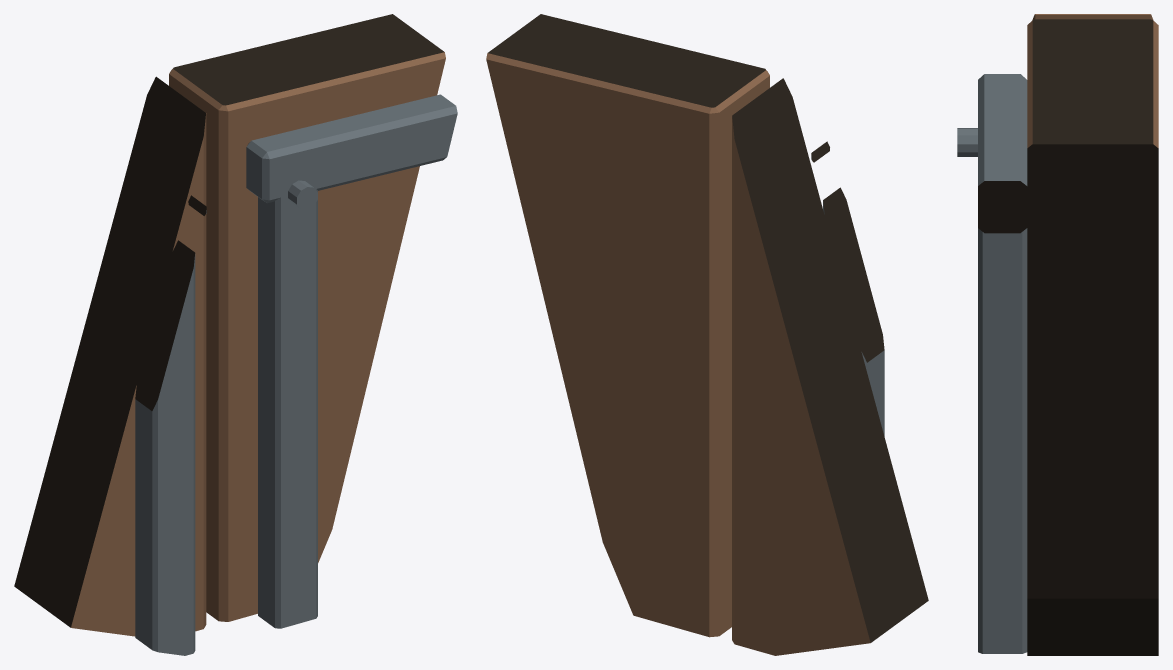
The model's file is SM_DoorShard_02_16.fbx.
3 views of the same model, side by side, from view 1: azimuth 30°, elevation 25°; view 2: azimuth 150°, elevation 25°; view 3: azimuth 270°, elevation 25° (orthographic). The views are drawn at different scales.
Visible parts, largest first — view 1: SM_DoorShard_02_16; view 2: SM_DoorShard_02_16; view 3: SM_DoorShard_02_16.
Part boxes in pixels (x1,y1,x2,y2): SM_DoorShard_02_16: (14, 14, 457, 655); SM_DoorShard_02_16: (486, 14, 928, 655); SM_DoorShard_02_16: (957, 14, 1158, 655).
Bounding box in the file's own units: 61.32 × 24.5 × 80.59.
